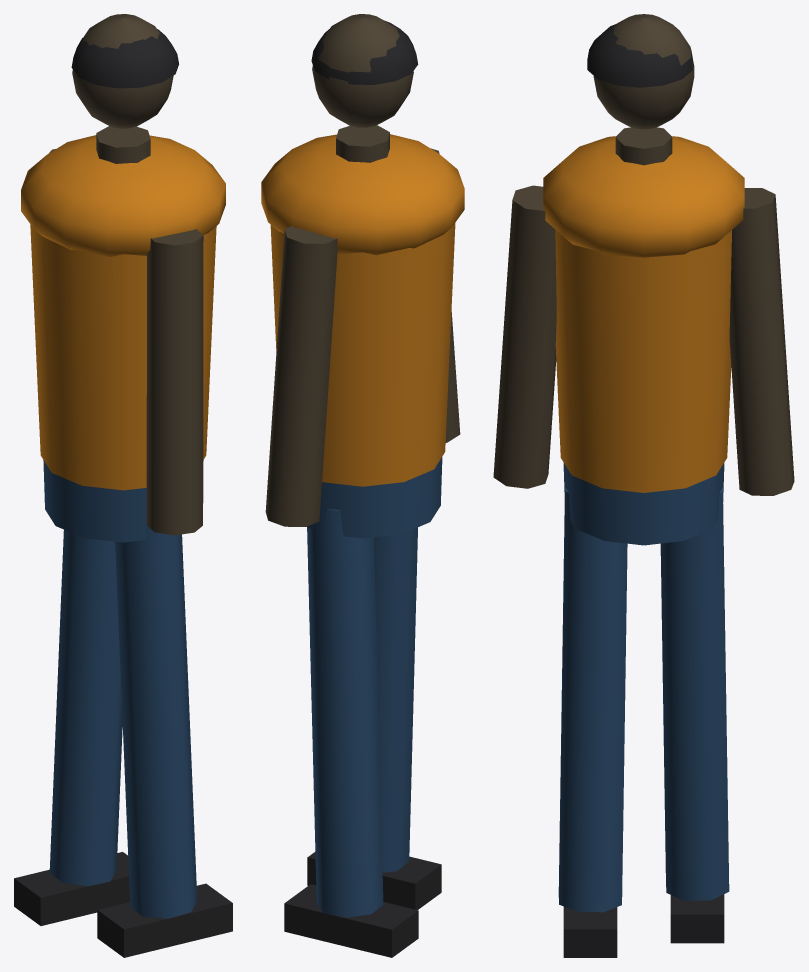
File: KIT_FIGURE_5.glb
3 views of the same model, side by side, from view 1: azimuth 30°, elevation 25°; view 2: azimuth 150°, elevation 25°; view 3: azimuth 270°, elevation 25° (orthographic).
Visible parts, largest first — view 1: KIT_FIGURE_5; view 2: KIT_FIGURE_5; view 3: KIT_FIGURE_5.
Part boxes in pixels (x1,y1,x2,y2): KIT_FIGURE_5: (14, 14, 232, 957); KIT_FIGURE_5: (261, 14, 464, 957); KIT_FIGURE_5: (493, 14, 794, 957).
Size of the model in its own units: 0.3276 by 1.58 by 0.4772.
